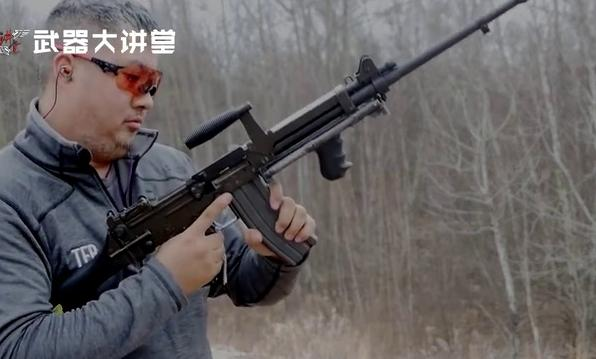gun: (1, 0, 596, 359)
